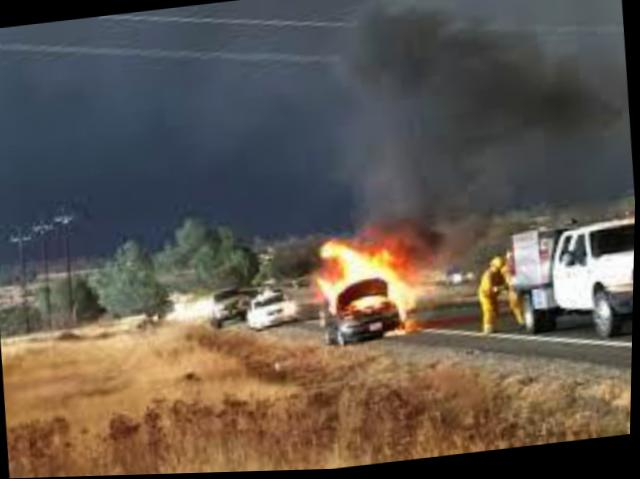fire: (299, 229, 438, 354)
